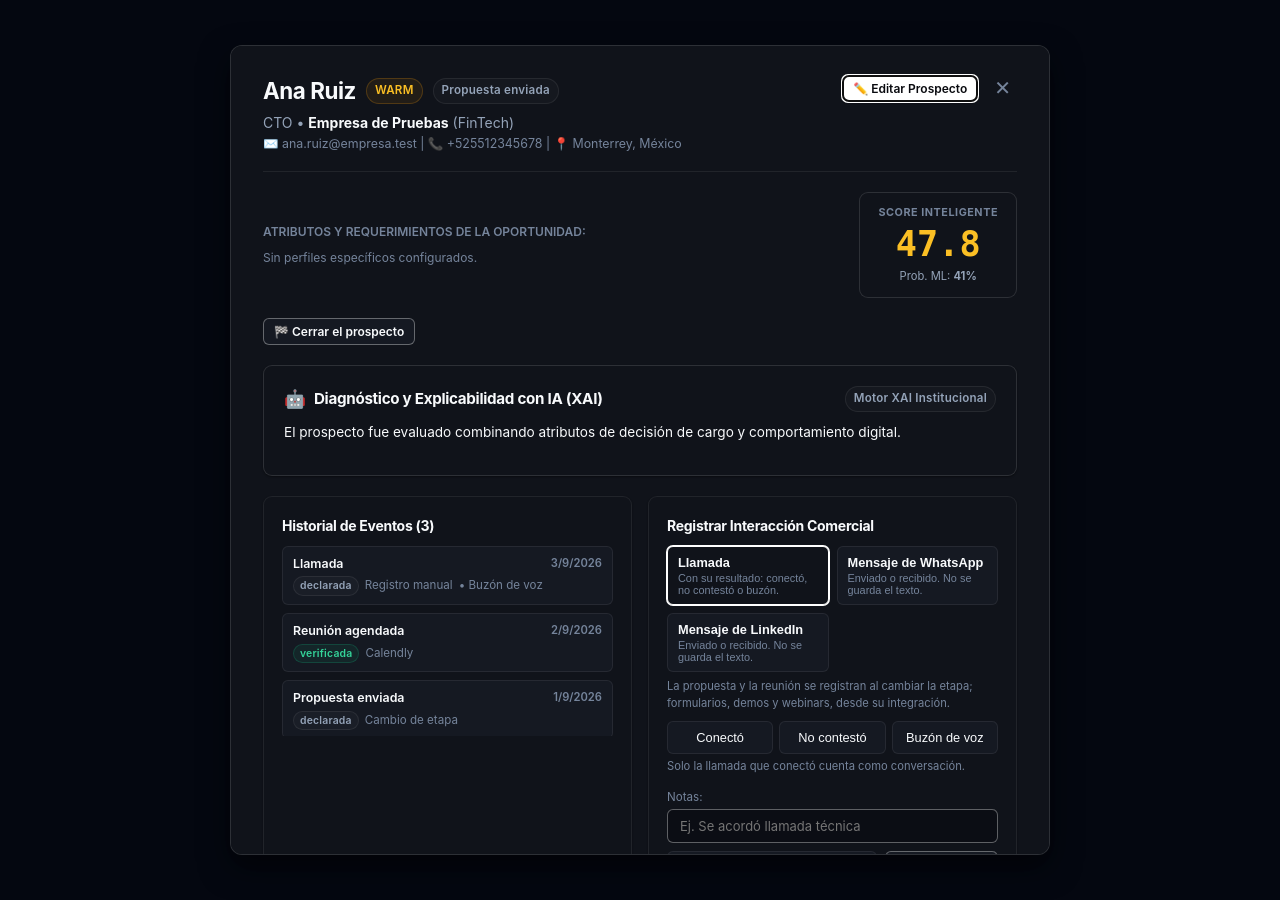
vaciar un campo desde la ficha › tras vaciar no vuelve a enseñar el valor anterior
The width and height of the screenshot is (1280, 900).
Click the button "✏️ Editar Prospecto" at (910, 88), box [842, 74, 978, 102]
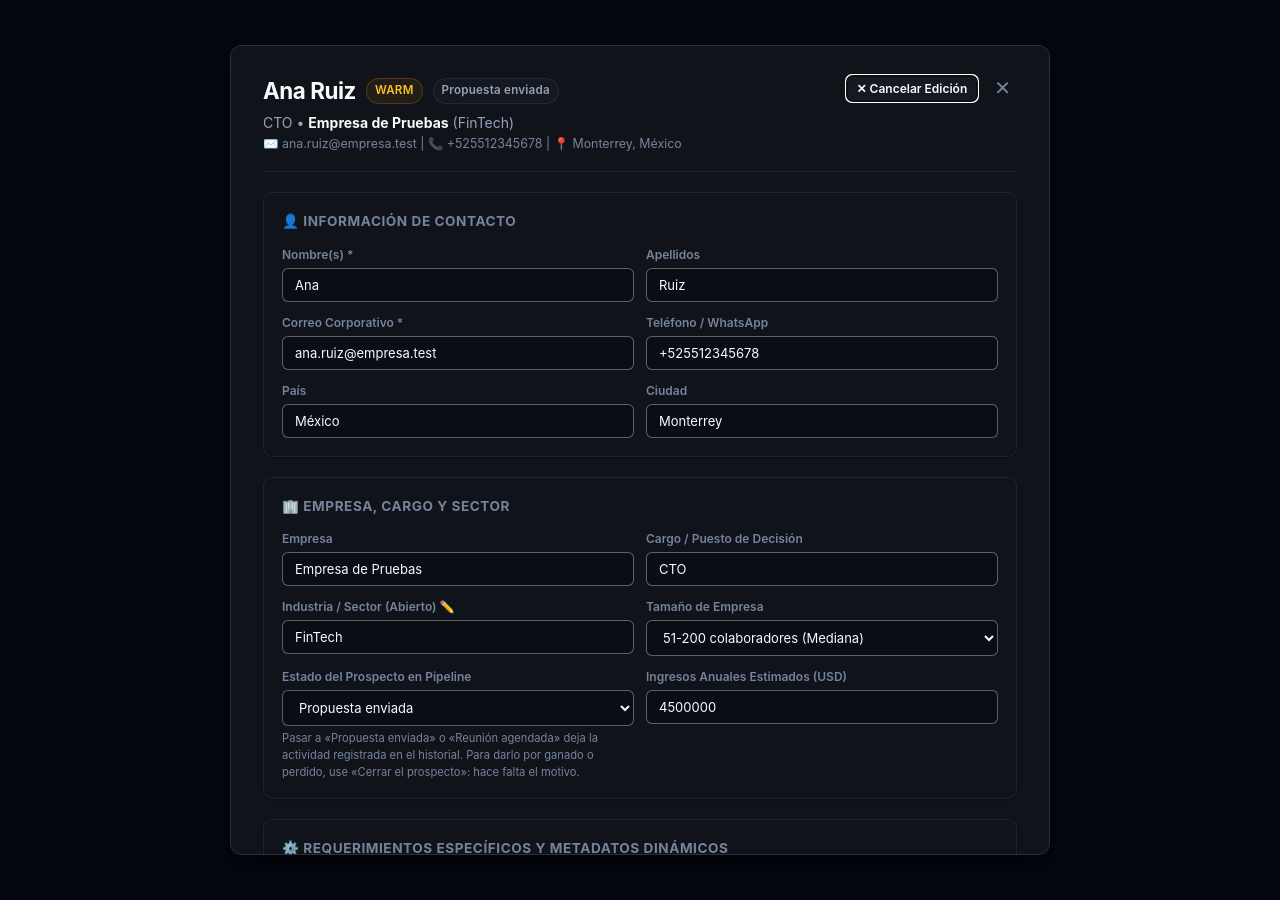
Clear the field labelled "Ciudad" at (822, 421), box [646, 404, 998, 438]
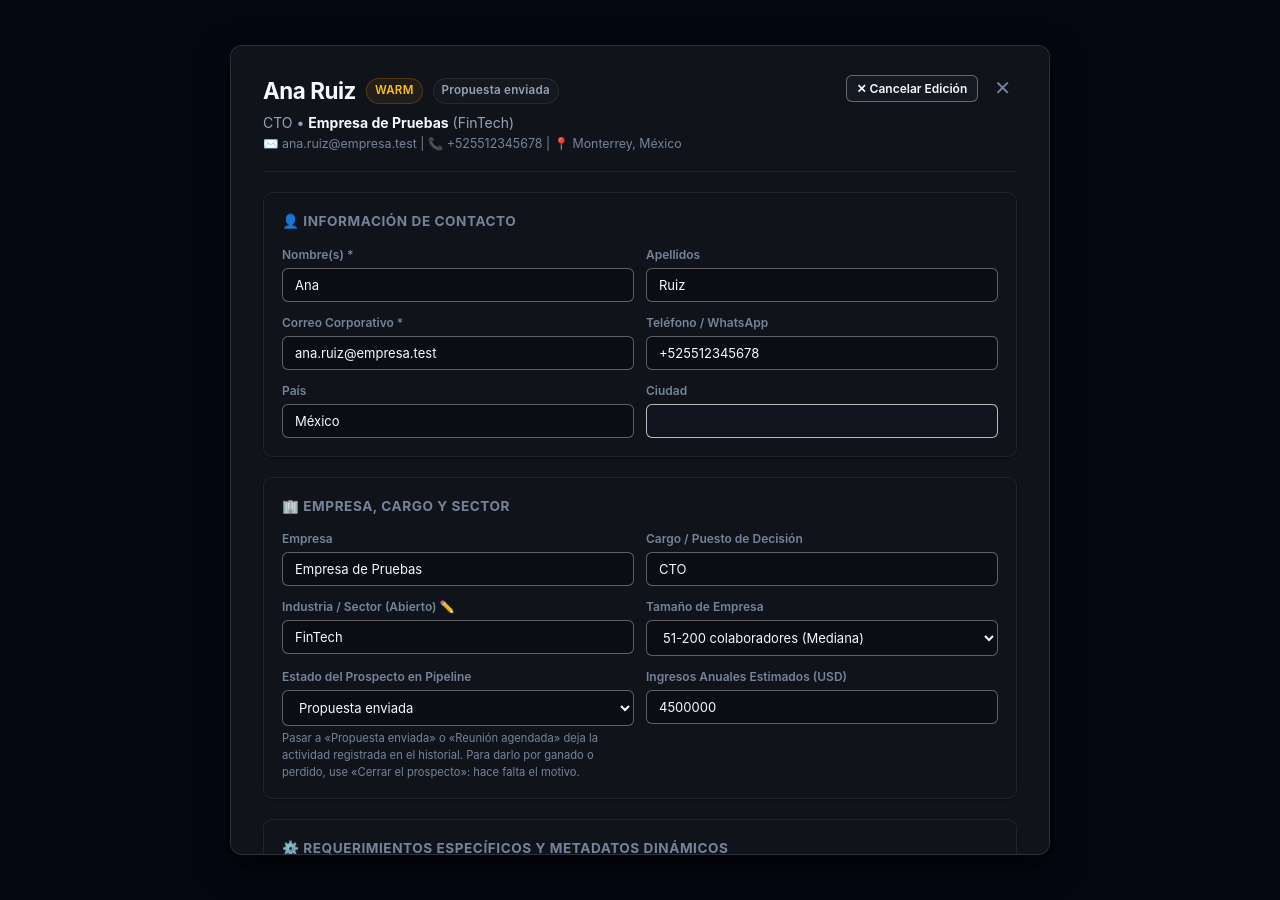
Clear the field labelled "Empresa" at (458, 569), box [282, 552, 634, 586]
(page scrolled)
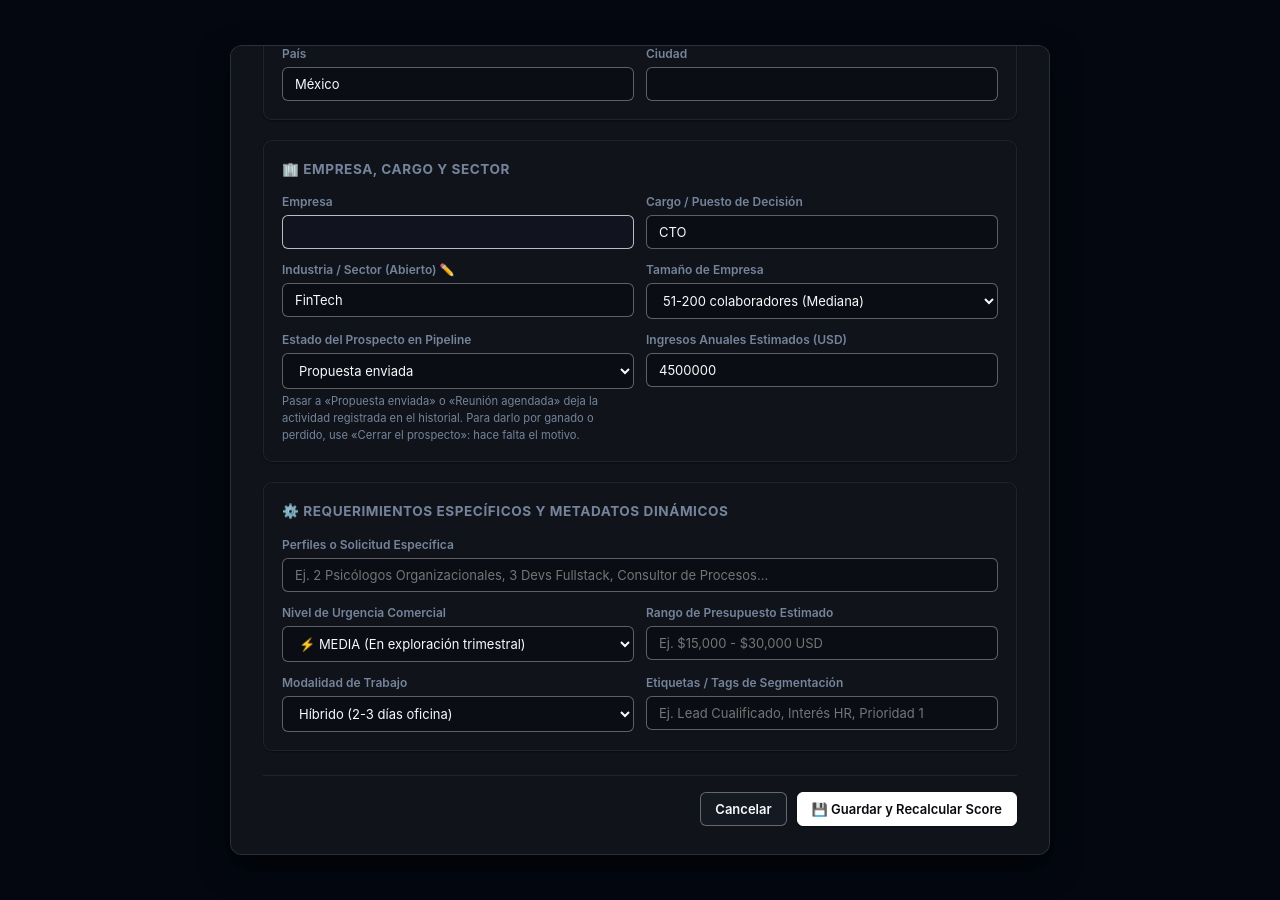
Click the button "💾 Guardar y Recalcular Score" at (907, 809), box [797, 792, 1017, 826]
(page scrolled)
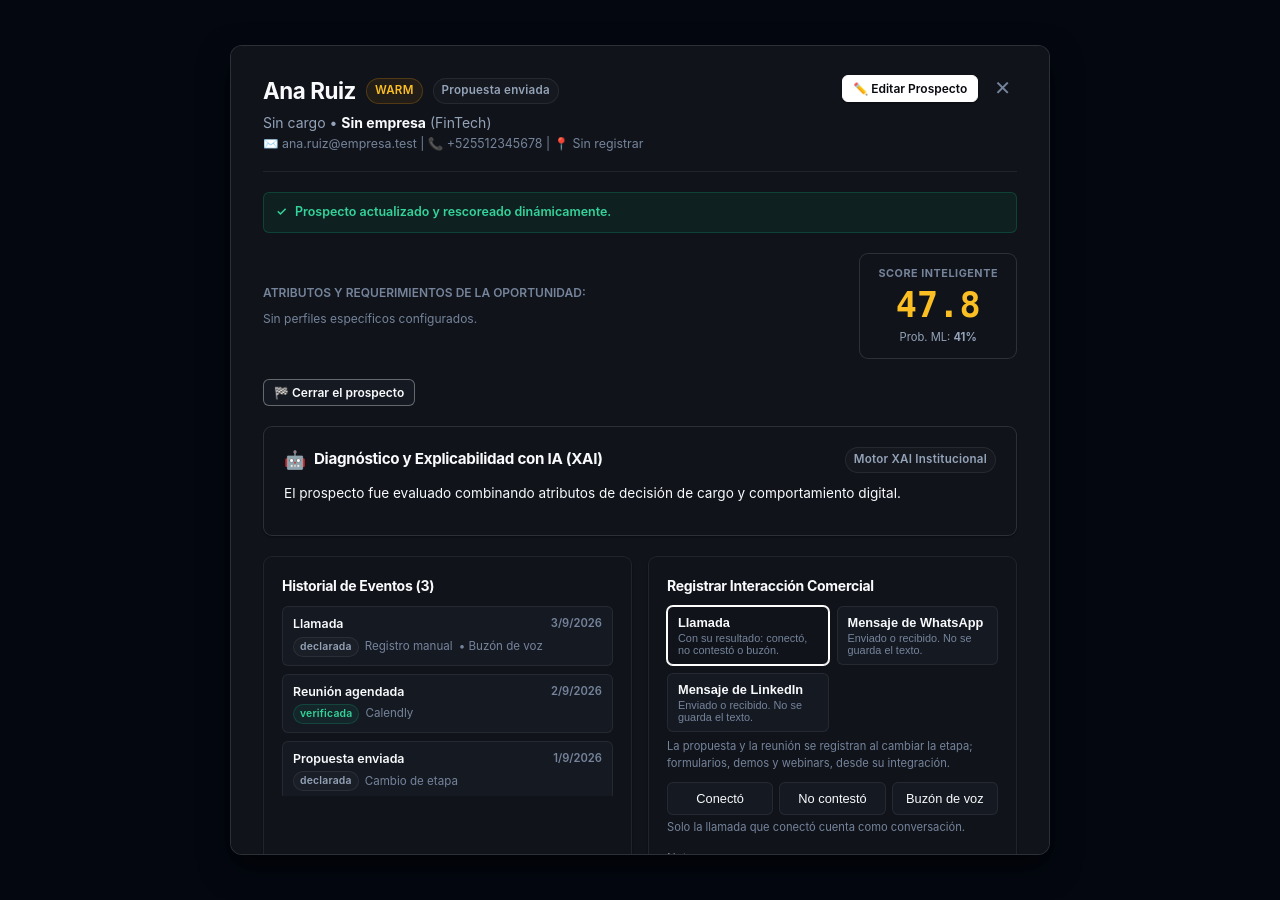
Check: the text "Empresa de Pruebas" is not shown
Check: the text "Sin empresa" is shown, box [341, 114, 426, 131]
Check: the text "Sin cargo • Sin empresa (FinTech)" is shown, box [263, 114, 492, 131]
